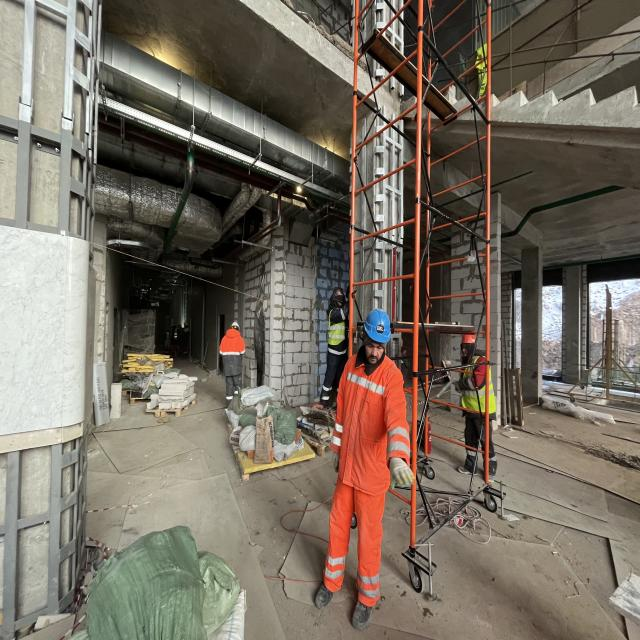Helmet: (366, 309, 393, 347), (460, 335, 478, 345), (232, 323, 241, 330), (185, 323, 189, 326)
Jacket: (339, 356, 398, 477), (464, 362, 493, 413), (327, 309, 347, 348), (221, 333, 245, 358), (172, 330, 179, 340), (185, 329, 191, 335)
